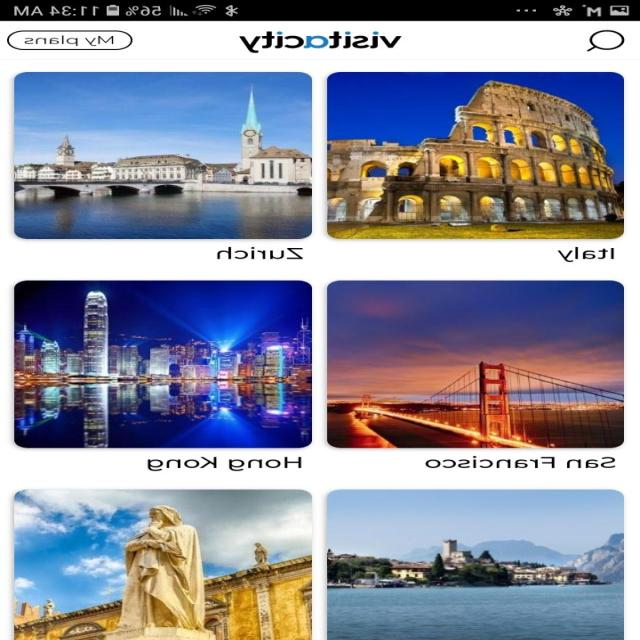Icon: (587, 30, 625, 52)
Image: (15, 280, 313, 448), (15, 71, 313, 239), (328, 280, 624, 448), (327, 72, 624, 239), (15, 489, 313, 640), (328, 489, 624, 640), (239, 31, 402, 53)
Text: (426, 455, 616, 468), (148, 456, 302, 471), (216, 246, 304, 260), (558, 246, 614, 262)
TextButton: (7, 30, 134, 50)
